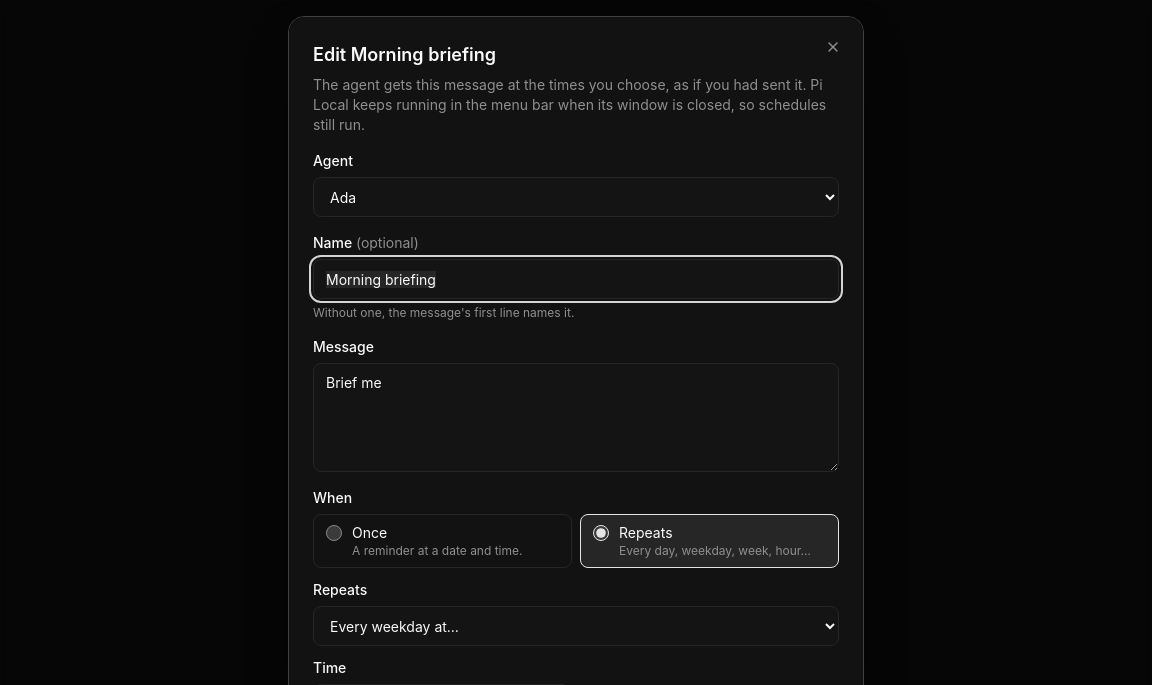
Test: moving a schedule to another agent › leaves out "same conversation" once moved, and brings it back when moved back
Select "Ada" in the dropdown labelled "Agent" at (576, 197), box x1=313 y1=177 x2=839 y2=217
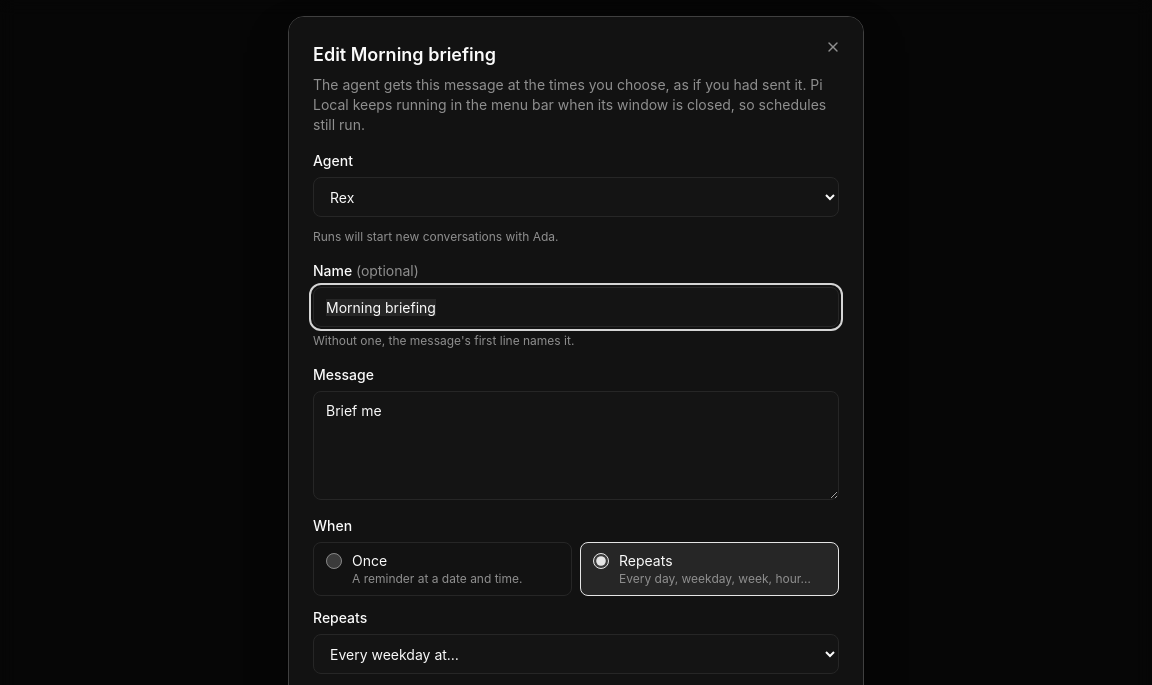
Select "Rex" in the dropdown labelled "Agent" at (576, 197), box x1=313 y1=177 x2=839 y2=217
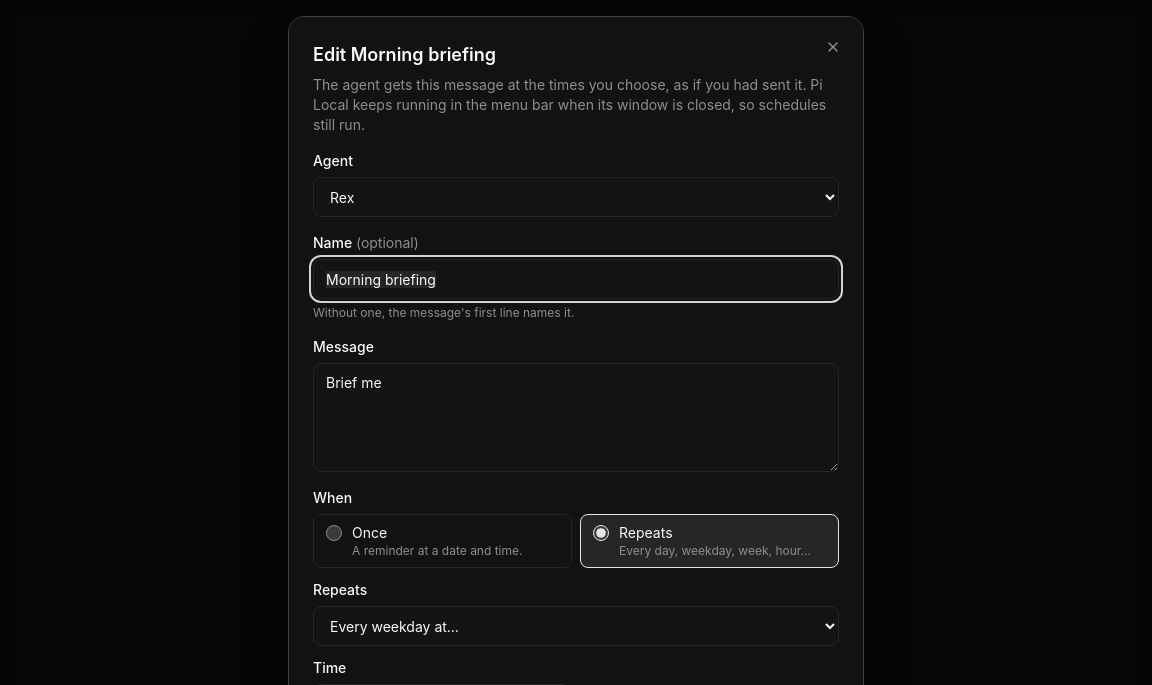
Result: the text "Runs will start new conversations" is gone
